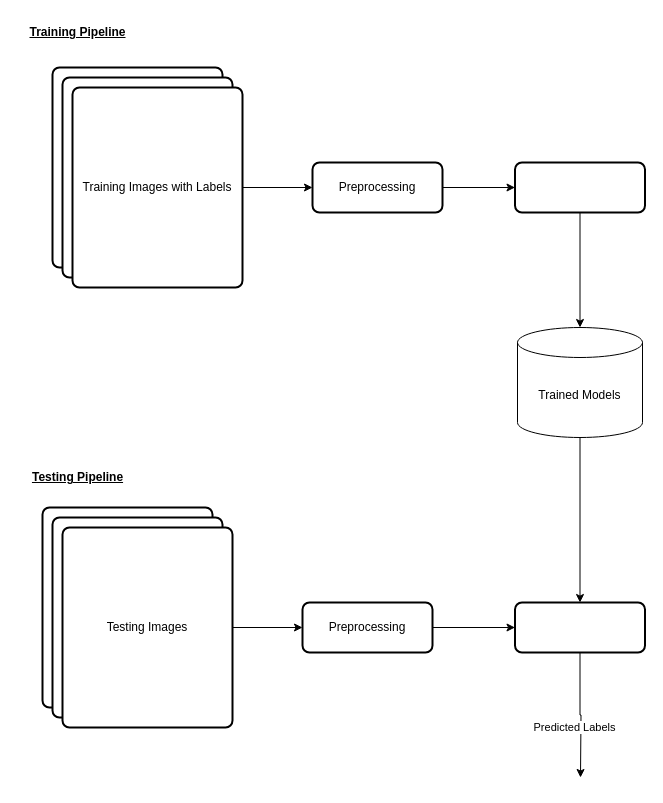
Image size: 663x803. Some labels were removed from this diagram. The shapes that lost their labels are listed below. From the top down, each one's centre as x and y in pixels, then its label:
At point (580, 187): "Training".
At point (580, 627): "Prediction".
